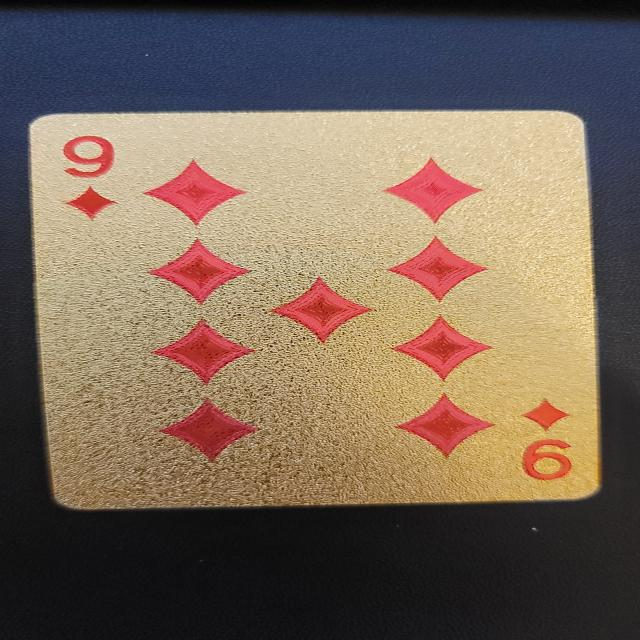9 of diamonds: (24, 111, 606, 512)
